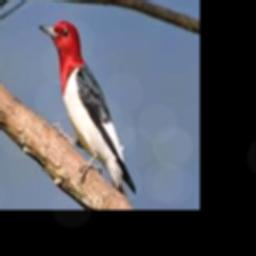Woodpecker: (39, 19, 136, 202)
